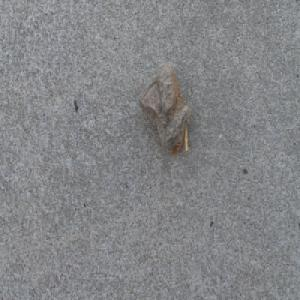Rock: (136, 61, 190, 157)
